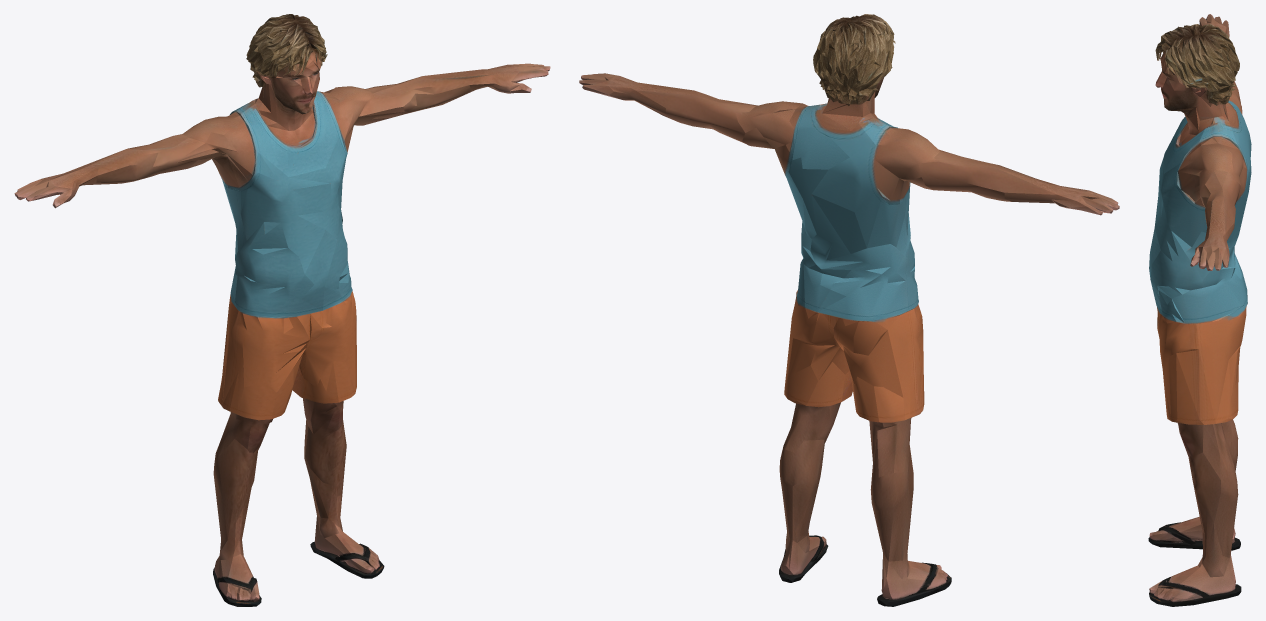
Rendered from image3d.glb.
The picture shows the model from 3 angles, left to right: view 1: azimuth 30°, elevation 25°; view 2: azimuth 150°, elevation 25°; view 3: azimuth 270°, elevation 25°; orthographic projection. The views are drawn at different scales.
Size of the model in its own units: 1.9 by 1.89 by 0.3251.
1 material, 1 textured.
